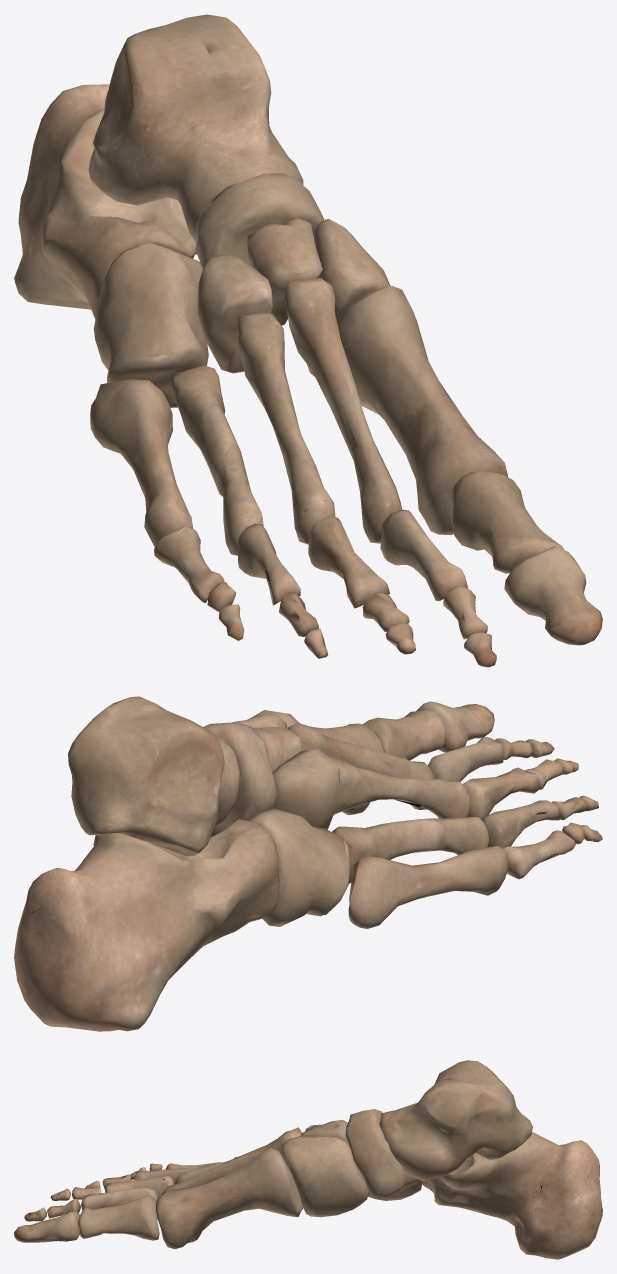
File: Legs.000.obj
3 views of the same model, one above another, from view 1: azimuth 30°, elevation 25°; view 2: azimuth 150°, elevation 25°; view 3: azimuth 270°, elevation 25° (orthographic). The views are drawn at different scales.
Visible parts, largest first — view 1: Legs.000_Arms.174; view 2: Legs.000_Arms.174; view 3: Legs.000_Arms.174.
Boxes of the visible parts, x1=… form: Legs.000_Arms.174: x1=14, y1=14, x2=602, y2=667; Legs.000_Arms.174: x1=14, y1=696, x2=602, y2=1031; Legs.000_Arms.174: x1=14, y1=1060, x2=602, y2=1259.
Size of the model in its own units: 0.476 by 0.4567 by 1.33.
